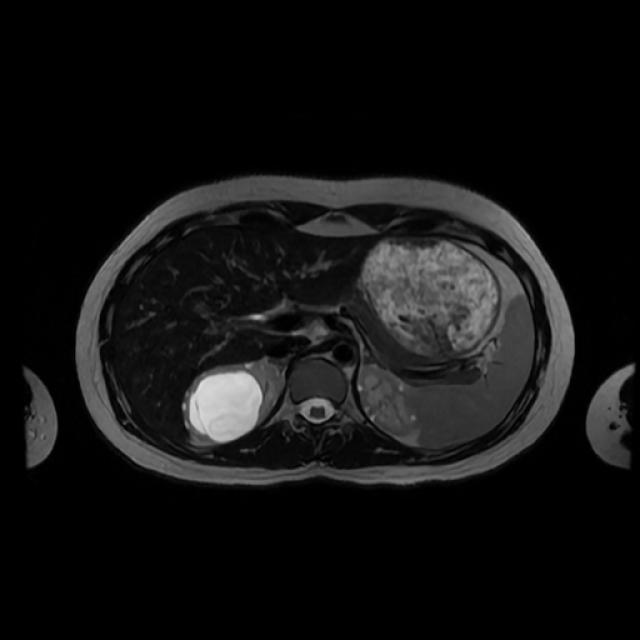sag: (182, 357, 285, 442)
sol: (357, 364, 419, 436)
